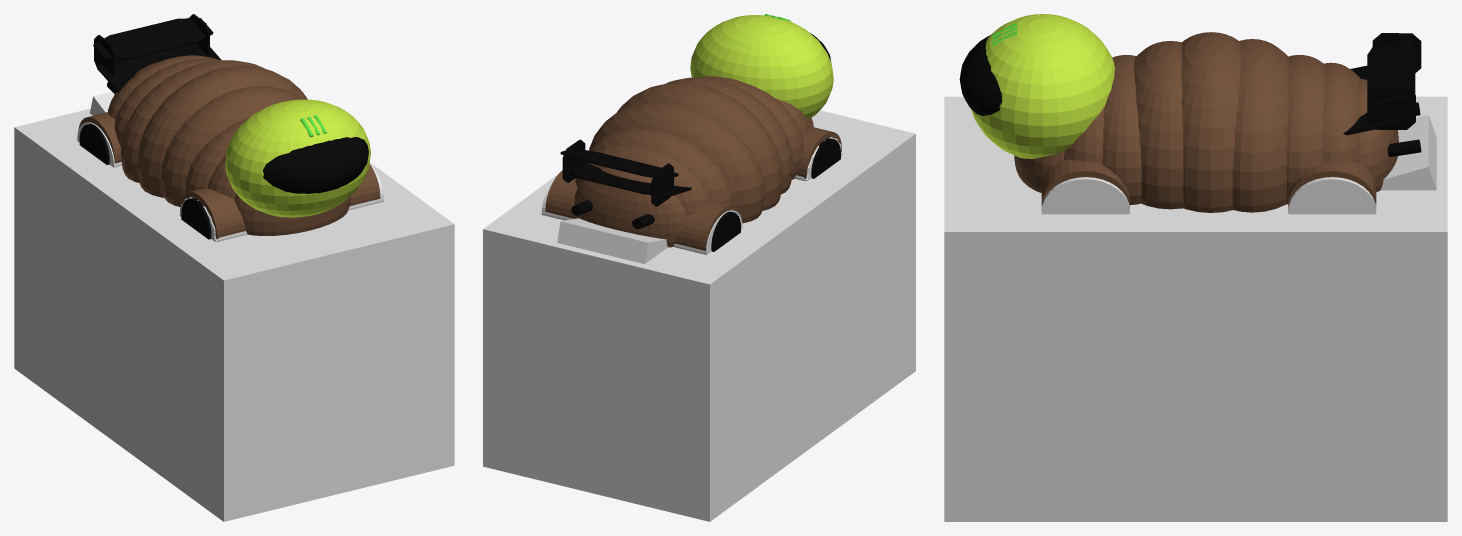
The model's file is LouseHamilton.fbx.
The picture shows the model from 3 angles, left to right: view 1: azimuth 30°, elevation 25°; view 2: azimuth 150°, elevation 25°; view 3: azimuth 270°, elevation 25°; orthographic projection. The views are drawn at different scales.
Visible parts, largest first — view 1: Cube, Sphere, Sphere.002, Sphere.001, Sphere.010, Sphere.005, Cube.003, Sphere.004, Cylinder.012, Sphere.009, Cube.002, Sphere.006 (+7 smaller); view 2: Cube, Sphere, Sphere.005, Sphere.002, Sphere.008, Sphere.006, Cube.001, Sphere.007, Sphere.001, Sphere.009, Cylinder.009, Cube.003 (+7 smaller); view 3: Cube, Sphere, Sphere.002, Sphere.005, Sphere.001, Sphere.006, Sphere.009, Sphere.007, Cylinder.007, Cylinder.006, Cube.001, Cube.003 (+9 smaller).
Part boxes in pixels (<box>): Cube: <box>14,108,454,521</box>; Sphere: <box>225,99,370,217</box>; Sphere.002: <box>137,66,307,197</box>; Sphere.001: <box>160,86,303,206</box>; Sphere.010: <box>263,137,368,193</box>; Sphere.005: <box>121,60,266,182</box>; Cube.003: <box>93,18,213,60</box>; Sphere.004: <box>234,193,351,235</box>; Cylinder.012: <box>180,188,245,239</box>; Sphere.009: <box>185,117,249,192</box>; Cube.002: <box>97,43,220,92</box>; Sphere.006: <box>114,58,221,146</box>; Cube: <box>483,110,915,521</box>; Sphere: <box>690,15,833,118</box>; Sphere.005: <box>589,102,764,223</box>; Sphere.002: <box>616,82,782,210</box>; Sphere.008: <box>574,167,686,247</box>; Sphere.006: <box>590,128,733,205</box>; Cube.001: <box>557,218,667,264</box>; Sphere.007: <box>575,144,712,215</box>; Sphere.001: <box>666,77,793,194</box>; Sphere.009: <box>701,76,803,179</box>; Cylinder.009: <box>675,202,741,250</box>; Cube.003: <box>560,150,678,179</box>; Cube: <box>944,96,1447,521</box>; Sphere: <box>970,14,1114,158</box>; Sphere.002: <box>1181,32,1240,212</box>; Sphere.005: <box>1232,39,1288,212</box>; Sphere.001: <box>1134,41,1183,209</box>; Sphere.006: <box>1286,55,1324,204</box>; Sphere.009: <box>1102,55,1141,204</box>; Sphere.007: <box>1322,62,1360,162</box>; Cylinder.007: <box>1288,177,1376,214</box>; Cylinder.006: <box>1041,177,1129,214</box>; Cube.001: <box>1381,114,1436,190</box>; Cube.003: <box>1367,40,1414,107</box>.
Size of the model in its own units: 200 by 296 by 315.
